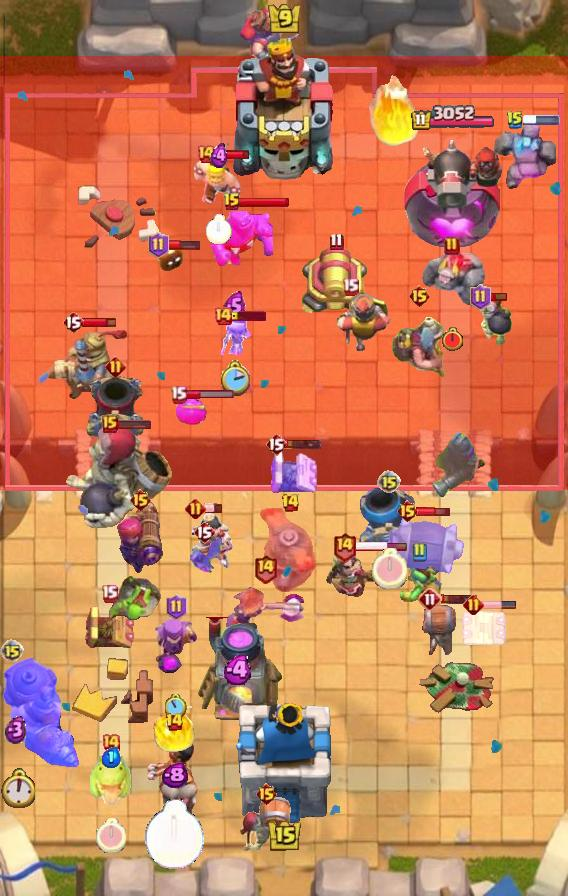bar: (238, 196, 290, 208), (354, 541, 408, 552), (184, 389, 235, 400), (416, 505, 451, 518), (82, 316, 117, 329), (441, 593, 478, 605), (285, 438, 322, 450), (116, 418, 152, 430), (214, 149, 251, 160), (167, 239, 200, 251), (522, 115, 560, 125), (481, 600, 517, 610), (230, 311, 266, 321), (488, 291, 508, 302), (204, 503, 223, 514)
bar-level: (253, 553, 278, 584), (332, 531, 357, 562), (0, 639, 24, 663), (418, 587, 442, 611), (377, 470, 401, 494), (255, 782, 278, 806), (396, 499, 419, 523), (129, 488, 152, 512), (408, 284, 431, 308), (166, 594, 187, 620), (470, 284, 491, 310), (148, 232, 169, 258), (193, 520, 215, 544), (265, 432, 287, 456), (62, 310, 84, 334), (463, 594, 484, 615), (185, 498, 206, 519), (105, 356, 126, 377), (101, 733, 121, 753), (213, 306, 233, 326), (196, 144, 216, 164), (165, 712, 184, 732), (281, 493, 300, 513), (223, 192, 241, 212), (506, 110, 524, 130), (101, 584, 118, 603), (170, 385, 187, 404), (342, 277, 359, 296), (411, 542, 427, 562), (444, 236, 460, 256), (102, 415, 118, 433), (329, 232, 344, 251)
barbarian: (187, 158, 251, 204)
barbarian-barrel: (383, 514, 467, 576)
bat-evolution: (186, 534, 222, 576)
bomber: (476, 293, 512, 347)
cannoneer-tower: (400, 132, 507, 256)
clock: (144, 799, 205, 870), (372, 548, 407, 589), (0, 768, 35, 808), (219, 360, 250, 396), (96, 818, 126, 853), (206, 214, 232, 244), (441, 327, 464, 352), (165, 694, 187, 719)
elixir: (223, 655, 255, 685), (161, 762, 188, 789), (223, 291, 246, 321), (5, 715, 27, 744), (210, 143, 229, 169), (102, 747, 121, 768)
elixir-golem-mid: (211, 207, 273, 267)
elixir-golem-small: (176, 395, 208, 425)
fire-spirit: (155, 241, 185, 273)
firecracker-evolution: (116, 500, 164, 576)
goblin-ball: (105, 573, 163, 621)
golemite: (494, 117, 556, 193), (418, 246, 486, 306)
king-tower: (228, 35, 340, 181), (235, 703, 333, 826)
little-prince: (323, 545, 392, 601)
miner: (389, 309, 449, 381)
mortar: (84, 373, 146, 441), (359, 487, 419, 551)
mother-witch: (153, 617, 199, 679)
musketeer: (431, 432, 487, 498)
princess: (189, 513, 233, 573)
ram-rider: (143, 737, 205, 831)
royal-recruit: (334, 289, 392, 353)
skeleton-evolution: (216, 315, 252, 355)
spear-goblin: (395, 564, 443, 606)
tesla: (82, 602, 136, 652), (266, 446, 318, 496), (460, 607, 508, 651)
tower-bar: (410, 105, 496, 132)
valkyrie-evolution: (224, 585, 307, 649)
wall-breaker: (238, 795, 294, 853), (420, 602, 470, 658)
